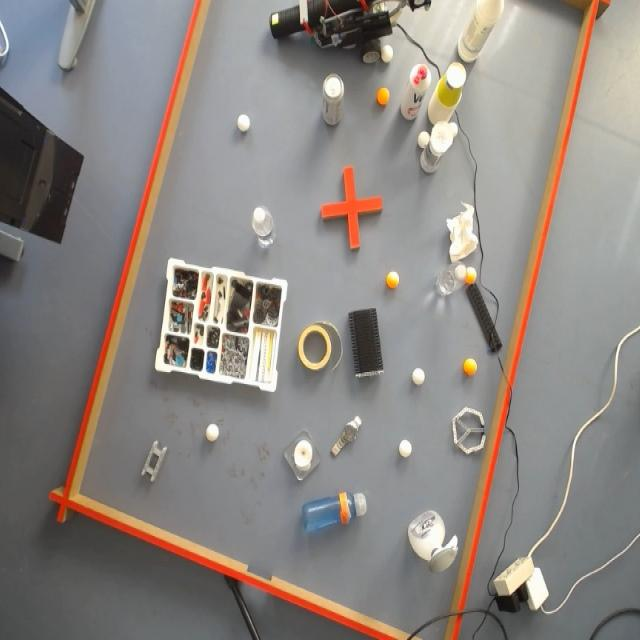orange: (386, 264, 404, 290), (465, 264, 479, 289), (462, 358, 478, 378), (376, 87, 390, 105)
robot: (268, 2, 430, 64)
robot-front: (268, 7, 296, 37)
white: (234, 110, 252, 137), (204, 422, 221, 445), (398, 438, 413, 462), (411, 368, 427, 389), (382, 45, 394, 65), (418, 131, 430, 150)
